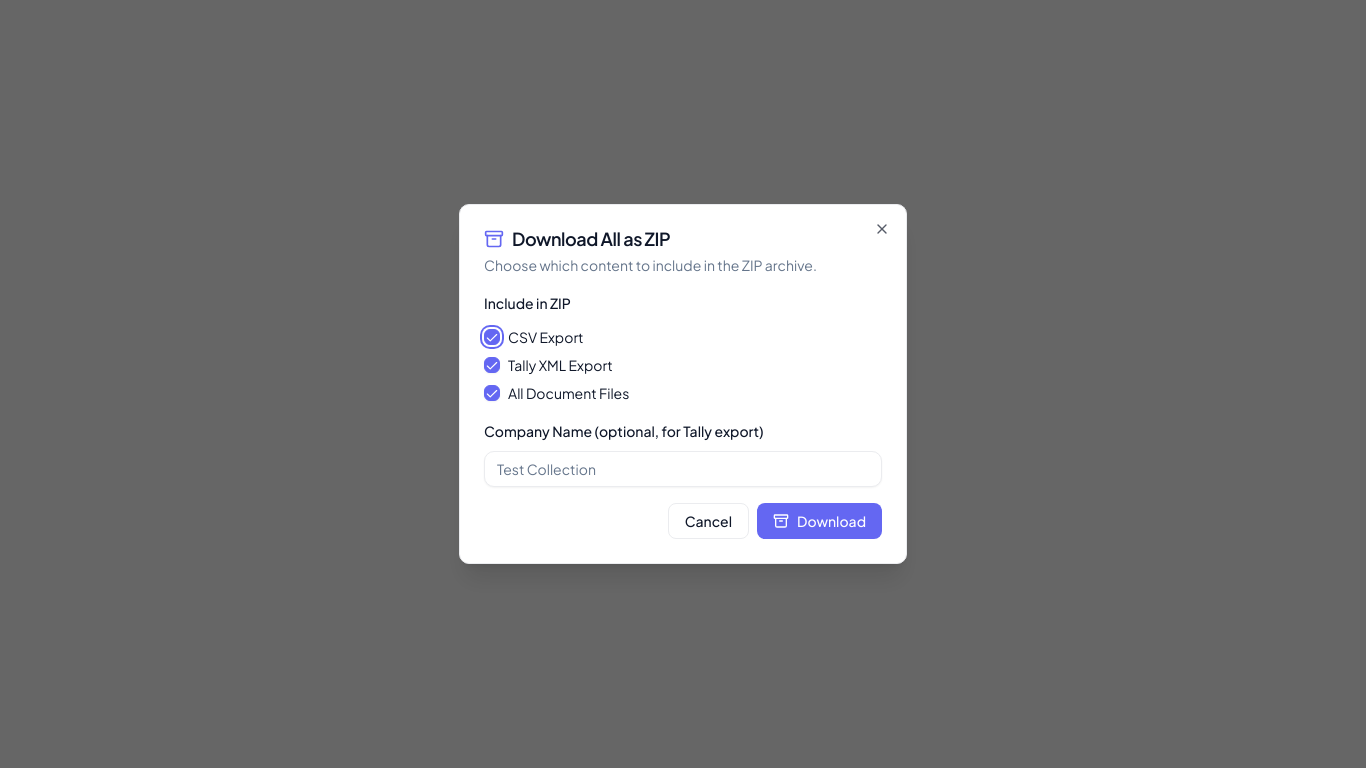
ZipExportDialog › enables download button when at least one checkbox is checked
# Uncheck all
Click the checkbox named "CSV Export" next to "CSV Export" at (492, 337), box [484, 329, 500, 345]
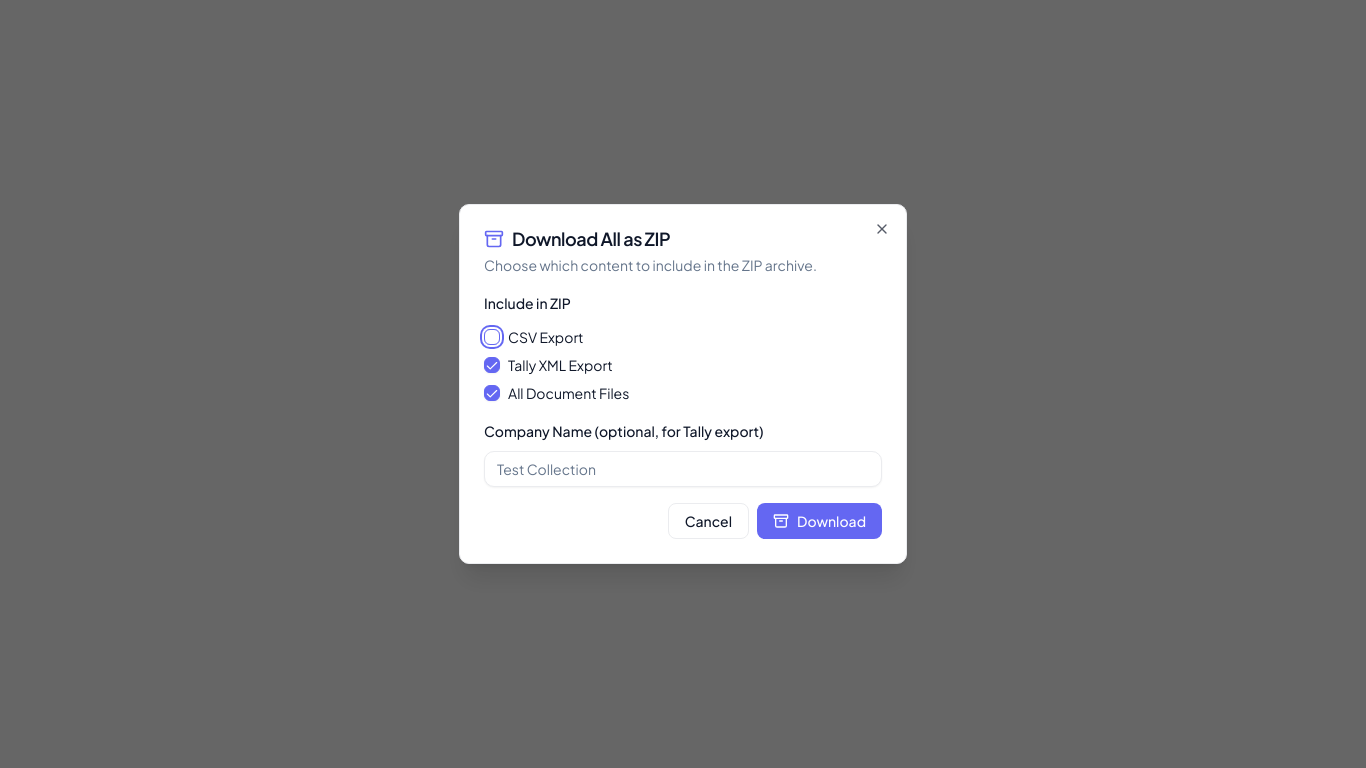
Click the checkbox named "Tally XML Export" next to "Tally XML Export" at (492, 365), box [484, 357, 500, 373]
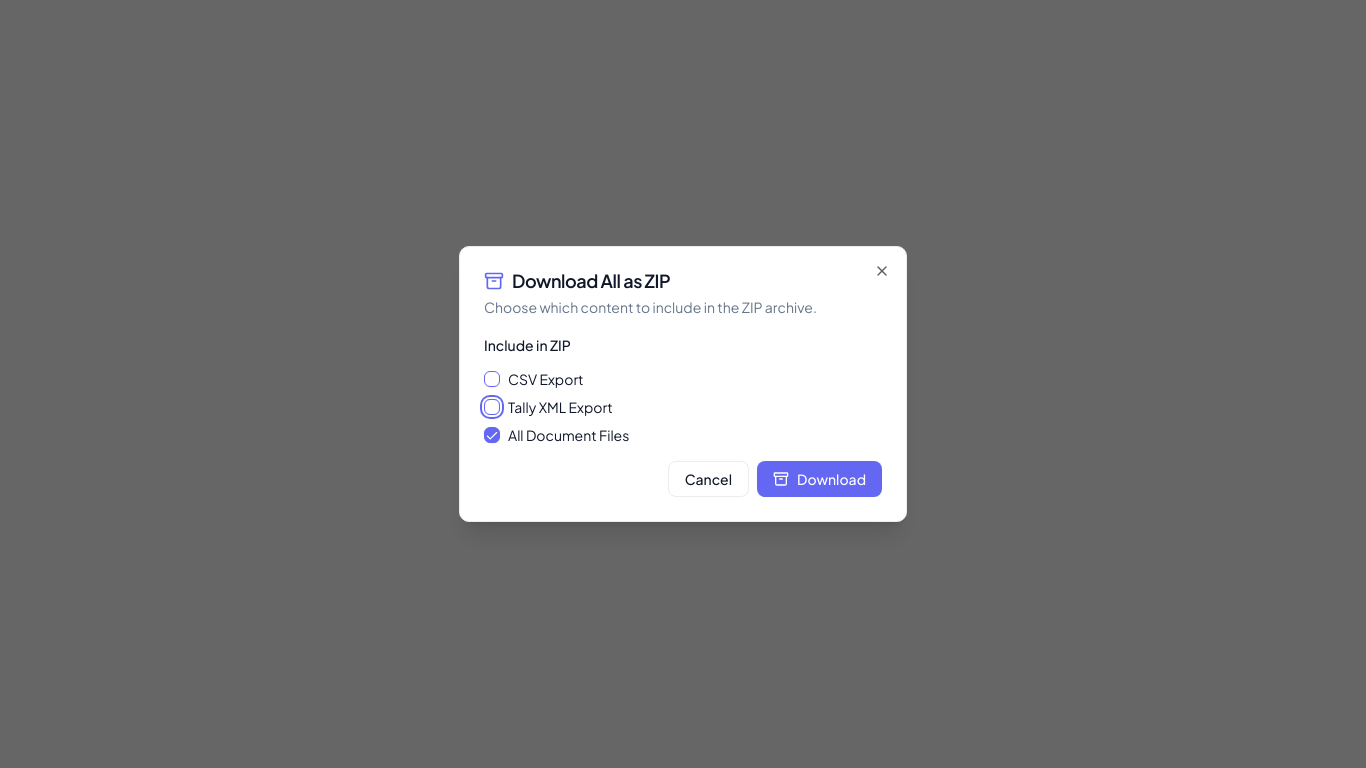
Click the checkbox named "All Document Files" next to "All Document Files" at (492, 435), box [484, 427, 500, 443]
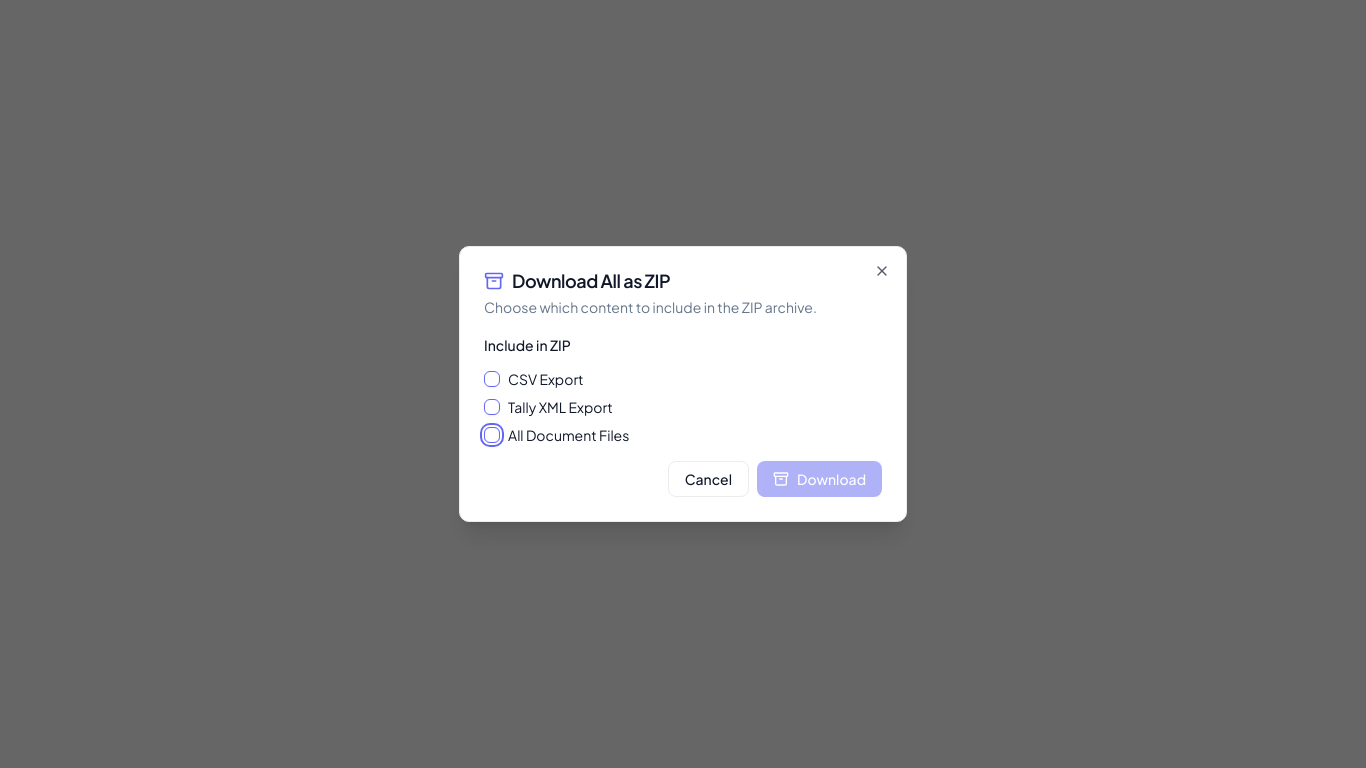
Expected: the button "Download" is disabled, [757, 461, 882, 497]
# Re-check one
Click the checkbox named "CSV Export" next to "CSV Export" at (492, 379), box [484, 371, 500, 387]
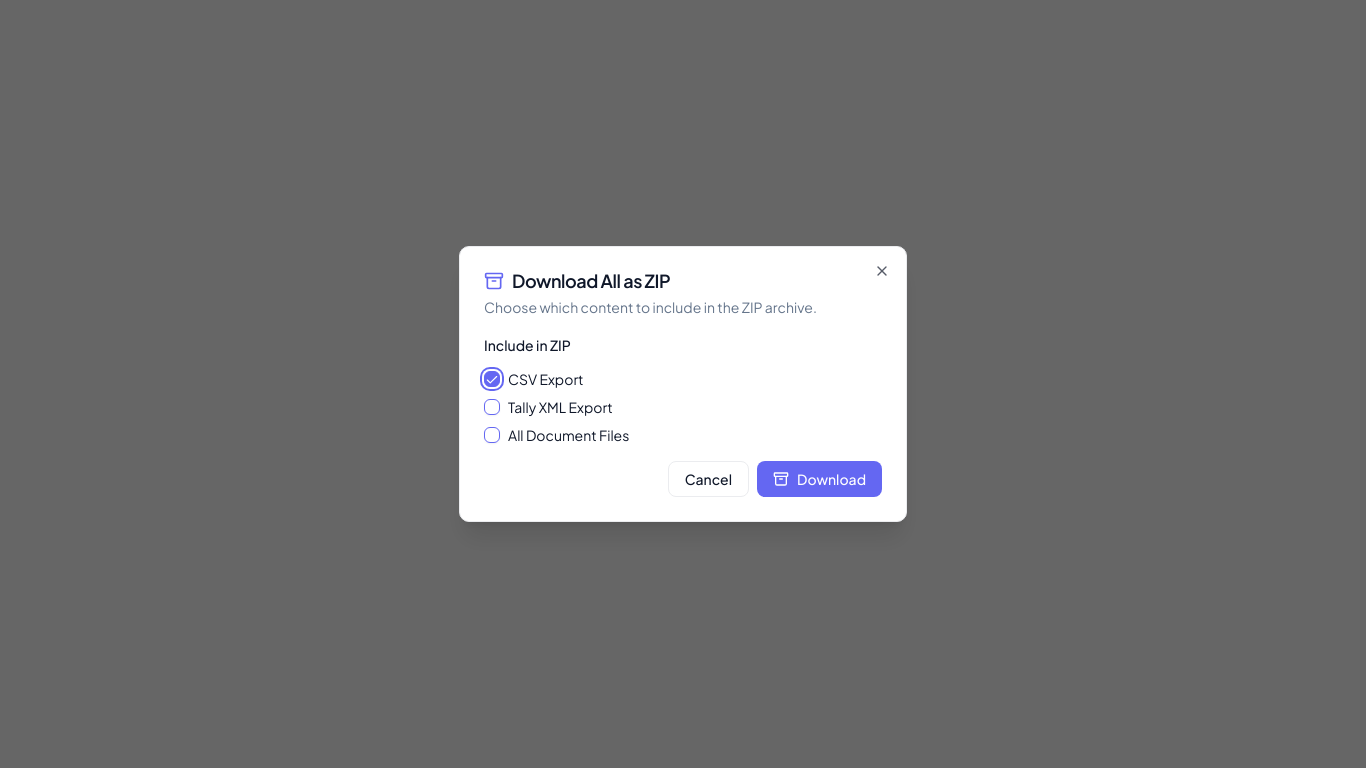
Expected: the button "Download" is enabled, [757, 461, 882, 497]
